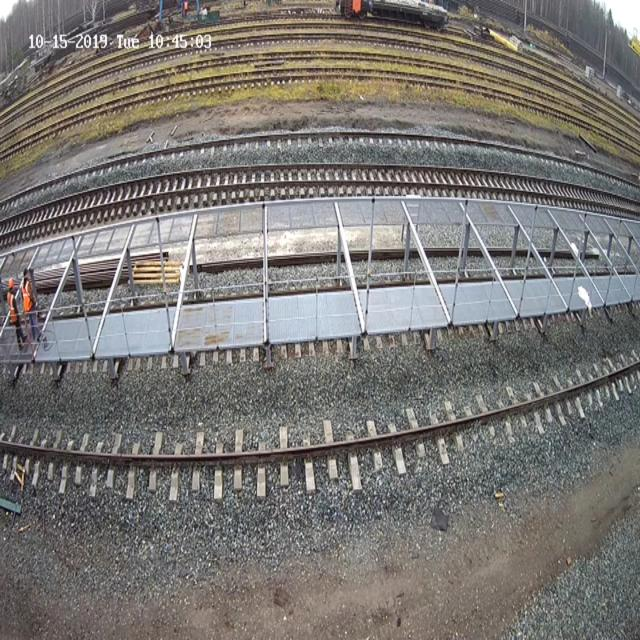Helmet: (8, 278, 15, 289)
Person: (20, 267, 40, 342), (7, 277, 26, 349)
